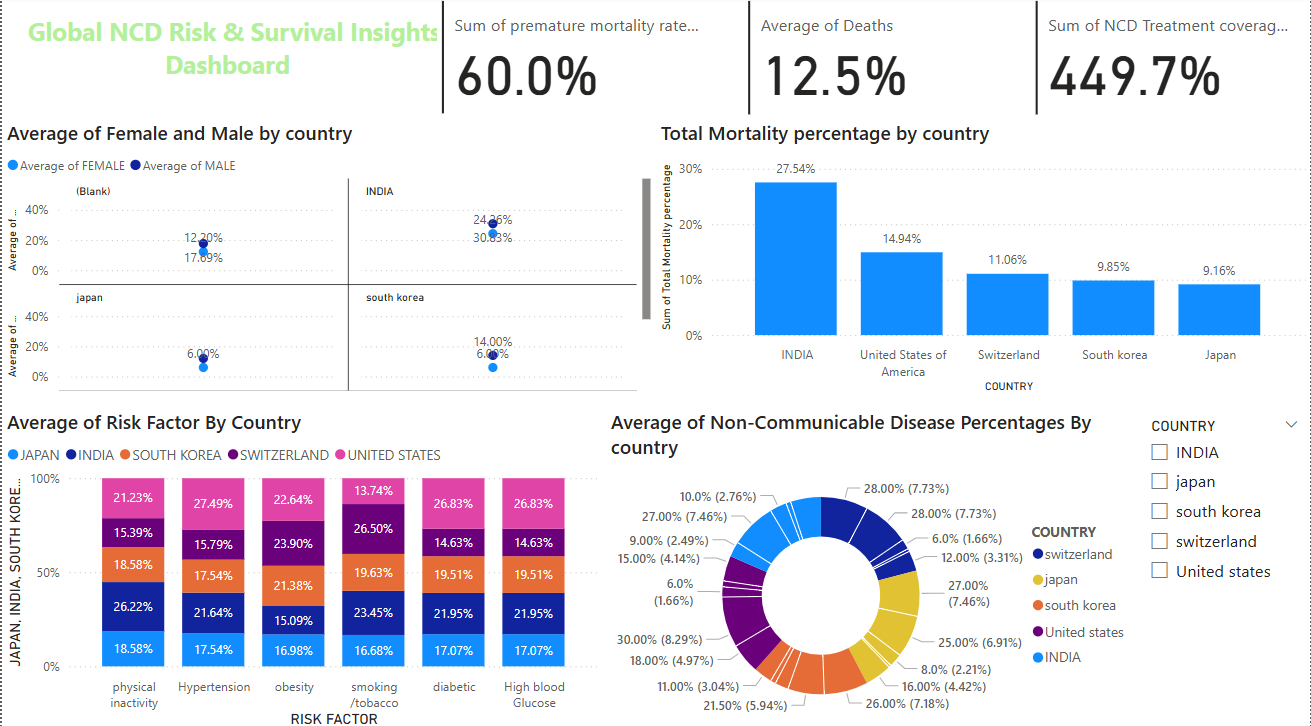

The page's visual inventory and layout, read from the dashboard file:
{"tool":"powerbi","page":{"name":"Page 1","canvas":[1280,720],"ordinal":0},"visuals":[{"type":"columnChart","title":"Total Mortality percentage by country","fields":{"Category":["Country_wise_NCD_Mortality_Rate_Filtered.COUNTRY"],"Y":["Sum(Country_wise_NCD_Mortality_Rate_Filtered.Total Mortality percentage)"]},"box":[639.5,120.8,640.8,271.7],"z":0},{"type":"lineChart","title":"Average of Female and Male by country","fields":{"Rows":["Sheet1.COUNTRY"],"Y":["Avg(Country_wise_NCD_Mortality_Rate_Filtered.FEMALE)","Avg(Country_wise_NCD_Mortality_Rate_Filtered.MALE)"]},"box":[0,120.8,639.5,271.7],"z":1000},{"type":"donutChart","title":"Average of Non-Communicable Disease Percentages By country","fields":{"Y":["Sum(Sheet1.cancer)","Sum(Sheet1.CardioVascular disease)","Sum(Sheet1.chronic resperotary)","Sum(Sheet1.diabetic)","Sum(Sheet1.Hypertension )"],"Category":["Sheet1.COUNTRY"]},"box":[590.1,403.4,521.4,317],"z":2000},{"type":"cardVisual","fields":{"Data":["Avg(Sheet1 (2).Deaths)"]},"box":[725.1,0,281.3,121.1],"z":3000},{"type":"cardVisual","fields":{"Data":["Sum(Sheet1 (2).NCD Treatment coverage rate)"]},"box":[1006.4,0,273.9,121.1],"z":4000},{"type":"hundredPercentStackedColumnChart","title":"Average of Risk Factor By Country","fields":{"Category":["risk factor.RISK FACTOR"],"Y":["Avg(risk factor.JAPAN)","Avg(risk factor.INDIA)","Avg(risk factor.SOUTH KOREA)","Avg(risk factor.SWITZERLAND)","Avg(risk factor.UNITED STATES)"]},"box":[0,403.4,588.7,317],"z":5000},{"type":"slicer","fields":{"Values":["Sheet1.COUNTRY"]},"box":[1111.6,407.2,168.8,185.9],"z":6000},{"type":"textbox","box":[11,13.7,433.6,87.8],"z":7000},{"type":"cardVisual","fields":{"Data":["Sum(Sheet1 (2). premature mortality rate from major NCD'S)"]},"box":[425.4,0,299.1,120.8],"z":8000}]}

Visuals, with their boxes in screenshot pixels (x1, y1, x2, y2), scaled from the page's 1280x720 canvas onto the 1311x726 screenshot:
"Total Mortality percentage by country" columnChart: {"left": 655, "top": 122, "right": 1310, "bottom": 396}
"Average of Female and Male by country" lineChart: {"left": 0, "top": 122, "right": 655, "bottom": 396}
"Average of Non-Communicable Disease Percentages By country" donutChart: {"left": 604, "top": 407, "right": 1138, "bottom": 725}
cardVisual - Avg(Sheet1 (2).Deaths): {"left": 743, "top": 0, "right": 1031, "bottom": 122}
cardVisual - Sum(Sheet1 (2).NCD Treatment coverage rate): {"left": 1031, "top": 0, "right": 1310, "bottom": 122}
"Average of Risk Factor By Country" hundredPercentStackedColumnChart: {"left": 0, "top": 407, "right": 603, "bottom": 725}
slicer - Sheet1.COUNTRY: {"left": 1139, "top": 411, "right": 1310, "bottom": 598}
textbox: {"left": 11, "top": 14, "right": 455, "bottom": 102}
cardVisual - Sum(Sheet1 (2). premature mortality rate from major NCD'S): {"left": 436, "top": 0, "right": 742, "bottom": 122}
